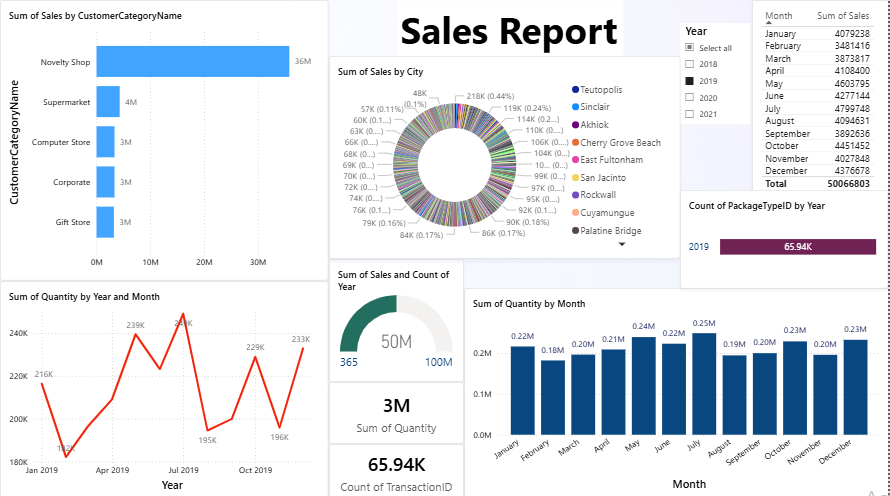

The page's visual inventory and layout, read from the dashboard file:
{"tool":"powerbi","page":{"name":"Page 1","canvas":[1280,720],"ordinal":0},"visuals":[{"type":"clusteredBarChart","fields":{"Y":["Sum(InvoiceData.Sales)"],"Category":["MasterCustomer.CustomerCategoryName"]},"box":[0,0,473.4,403.9],"z":0},{"type":"slicer","fields":{"Values":["InvoiceData.Date.Variation.Date Hierarchy.Year"]},"box":[979.4,32.6,100.6,146],"z":1000},{"type":"tableEx","fields":{"Values":["InvoiceData.Date.Variation.Date Hierarchy.Month","Sum(InvoiceData.Sales)"]},"box":[1082.9,0,197.3,299.5],"z":2000},{"type":"lineClusteredColumnComboChart","fields":{"Y":["Sum(InvoiceData.Quantity)"],"Category":["InvoiceData.Date.Variation.Date Hierarchy.Month"]},"box":[668.2,414.7,612,305.3],"z":3000},{"type":"lineChart","fields":{"Y":["Sum(InvoiceData.Quantity)"],"Category":["InvoiceData.Date.Variation.Date Hierarchy.Year","InvoiceData.Date.Variation.Date Hierarchy.Month"]},"box":[0,403.9,473.4,316.1],"z":4000},{"type":"gauge","fields":{"Y":["Sum(InvoiceData.Sales)"],"MinValue":["CountNonNull(InvoiceData.Date.Variation.Date Hierarchy.Year)"]},"box":[473.4,372.8,194.2,177.2],"z":5000},{"type":"textbox","box":[571.2,0,326,80.8],"z":6000},{"type":"donutChart","fields":{"Category":["MasterCustomer.City"],"Y":["Sum(InvoiceData.Sales)"]},"box":[473.4,80.8,506,292],"z":7000},{"type":"card","fields":{"Values":["Sum(InvoiceData.Quantity)"]},"box":[473.4,549.9,194.2,89.3],"z":8000},{"type":"card","fields":{"Values":["CountNonNull(InvoiceData.TransactionID)"]},"box":[473.4,639.2,194.2,80.8],"z":9000},{"type":"funnel","fields":{"Category":["InvoiceData.Date.Variation.Date Hierarchy.Year"],"Y":["CountNonNull(InvoiceData.PackageTypeID)"]},"box":[979.4,273.5,300.5,141.7],"z":10000}]}

Visuals, with their boxes in screenshot pixels (x1, y1, x2, y2), scaled from the page's 1280x720 canvas onto the 890x496 screenshot:
clusteredBarChart - Sum(InvoiceData.Sales) x MasterCustomer.CustomerCategoryName: <box>0,0,329,278</box>
slicer - InvoiceData.Date.Variation.Date Hierarchy.Year: <box>681,22,751,123</box>
tableEx - InvoiceData.Date.Variation.Date Hierarchy.Month x Sum(InvoiceData.Sales): <box>753,0,889,206</box>
lineClusteredColumnComboChart - Sum(InvoiceData.Quantity) x InvoiceData.Date.Variation.Date Hierarchy.Month: <box>465,286,889,495</box>
lineChart - Sum(InvoiceData.Quantity) x InvoiceData.Date.Variation.Date Hierarchy.Year: <box>0,278,329,495</box>
gauge - Sum(InvoiceData.Sales) x CountNonNull(InvoiceData.Date.Variation.Date Hierarchy.Year): <box>329,257,464,379</box>
textbox: <box>397,0,624,56</box>
donutChart - MasterCustomer.City x Sum(InvoiceData.Sales): <box>329,56,681,257</box>
card - Sum(InvoiceData.Quantity): <box>329,379,464,440</box>
card - CountNonNull(InvoiceData.TransactionID): <box>329,440,464,495</box>
funnel - InvoiceData.Date.Variation.Date Hierarchy.Year x CountNonNull(InvoiceData.PackageTypeID): <box>681,188,889,286</box>
